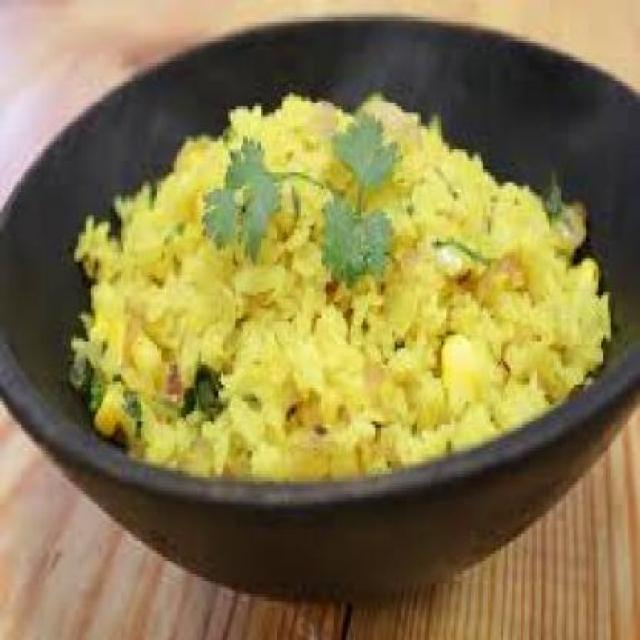poha: (72, 94, 611, 483)
